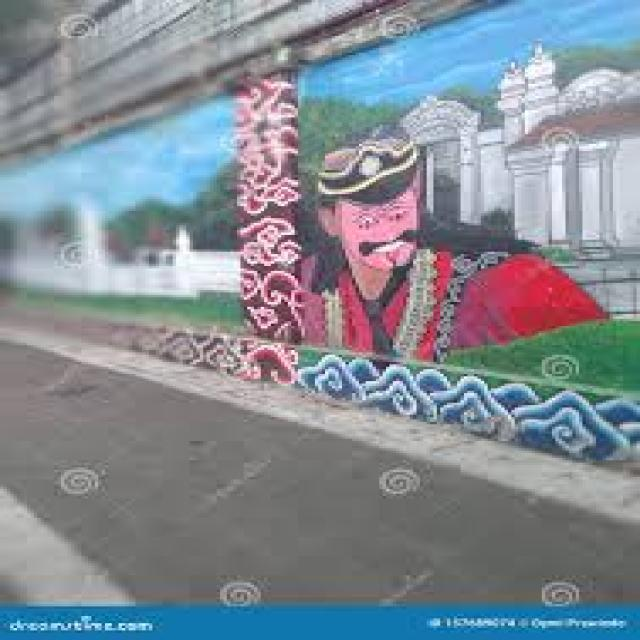-: (294, 0, 640, 467), (2, 90, 236, 370), (242, 70, 298, 382)
